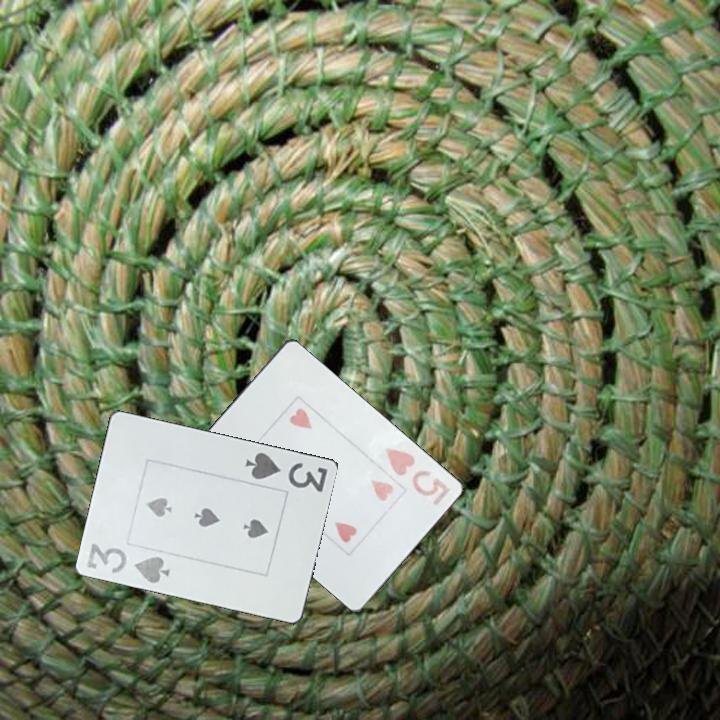3s: (82, 540, 172, 587), (241, 449, 330, 495)
5h: (380, 443, 453, 509)
